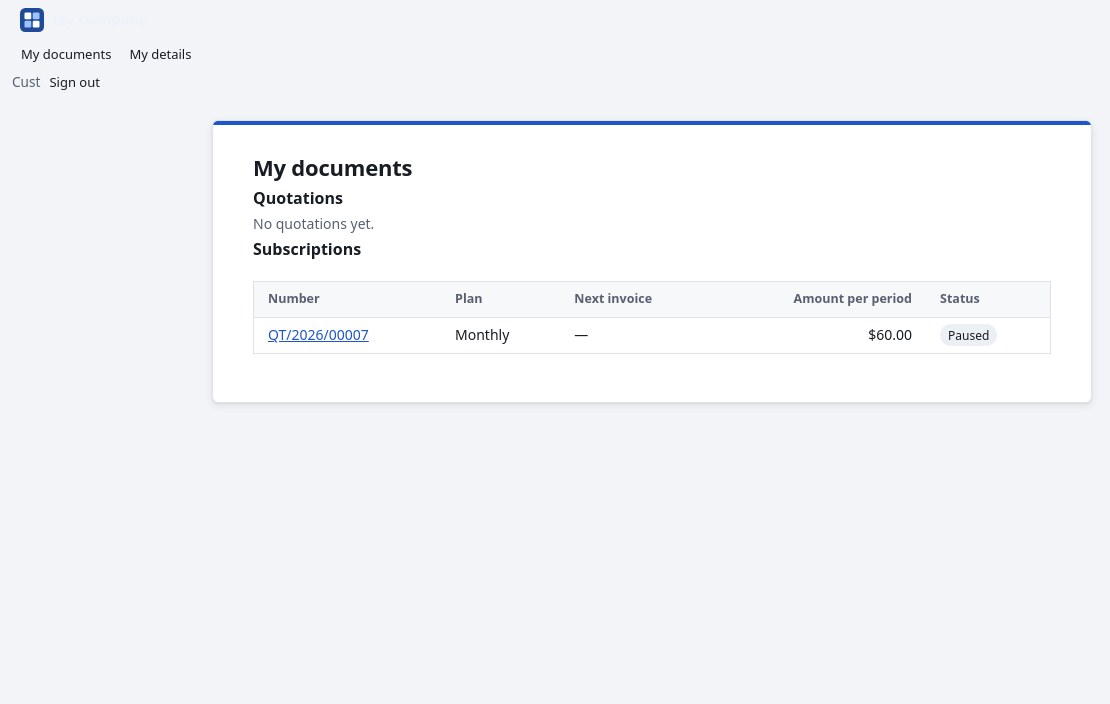
Scenario: portal subscriptions › lists subscriptions on the documents page when the module is installed
The width and height of the screenshot is (1110, 704).
Expected: the text "Paused" is shown, x1=940 y1=324 x2=997 y2=346
Click the link "QT/2026/00007".
click(318, 335)  # box x1=268 y1=325 x2=369 y2=344
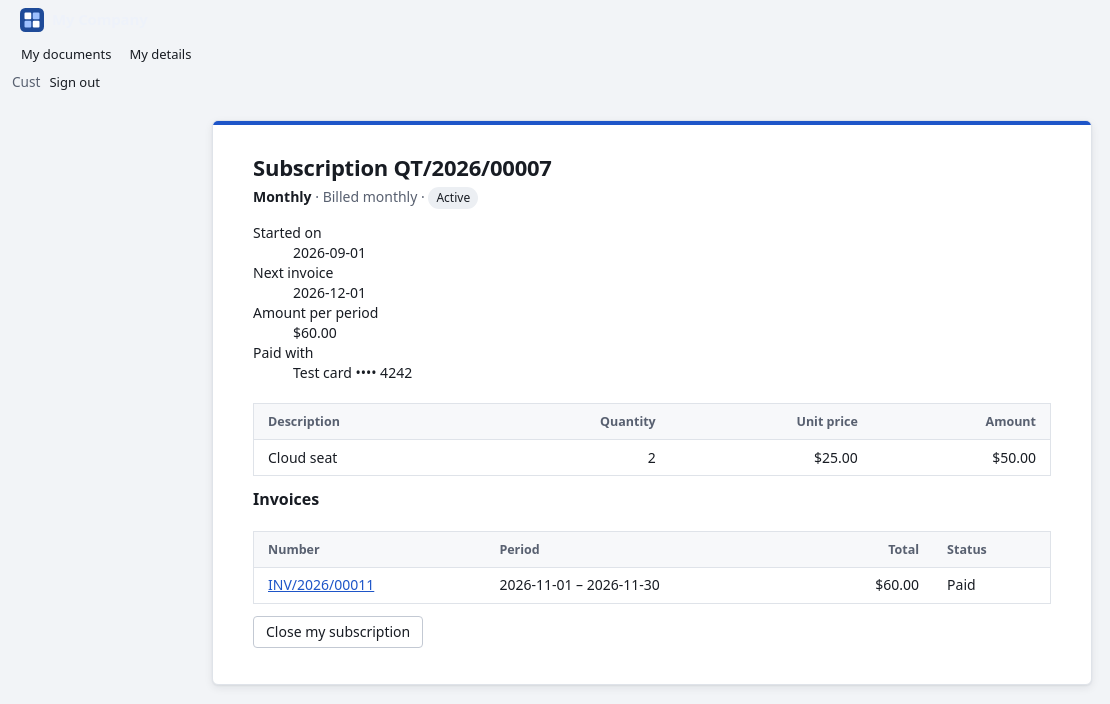
Now the heading "Subscription QT/2026/00007" is shown, box x1=253 y1=152 x2=552 y2=182
